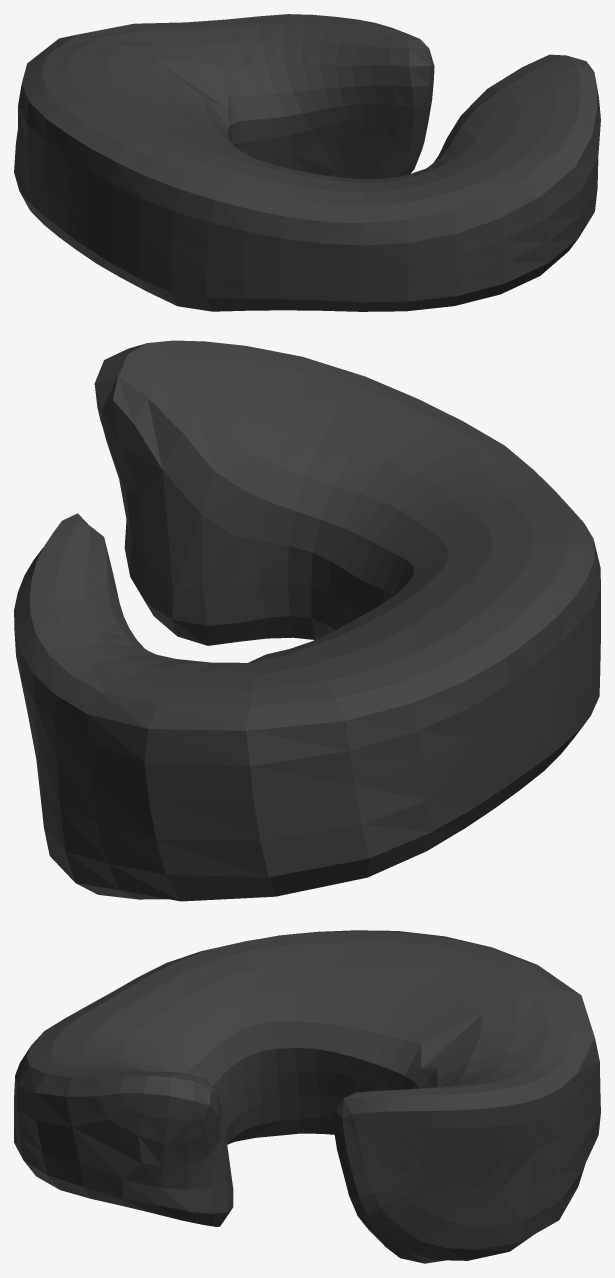
File: Medial_meniscus.glb
3 renders of one model, top to bottom at view 1: azimuth 30°, elevation 25°; view 2: azimuth 150°, elevation 25°; view 3: azimuth 270°, elevation 25°, orthographic. The views are drawn at different scales.
Parts seen in each view (by area): view 1: Medial_meniscus; view 2: Medial_meniscus; view 3: Medial_meniscus.
Boxes of the visible parts, left/top/right/bottom form: Medial_meniscus: left=14, top=14, right=600, bottom=311; Medial_meniscus: left=14, top=340, right=600, bottom=901; Medial_meniscus: left=14, top=930, right=600, bottom=1263.
Size of the model in its own units: 0.5599 by 0.3015 by 0.6778.
Materials: 1 (1 with a texture image).
